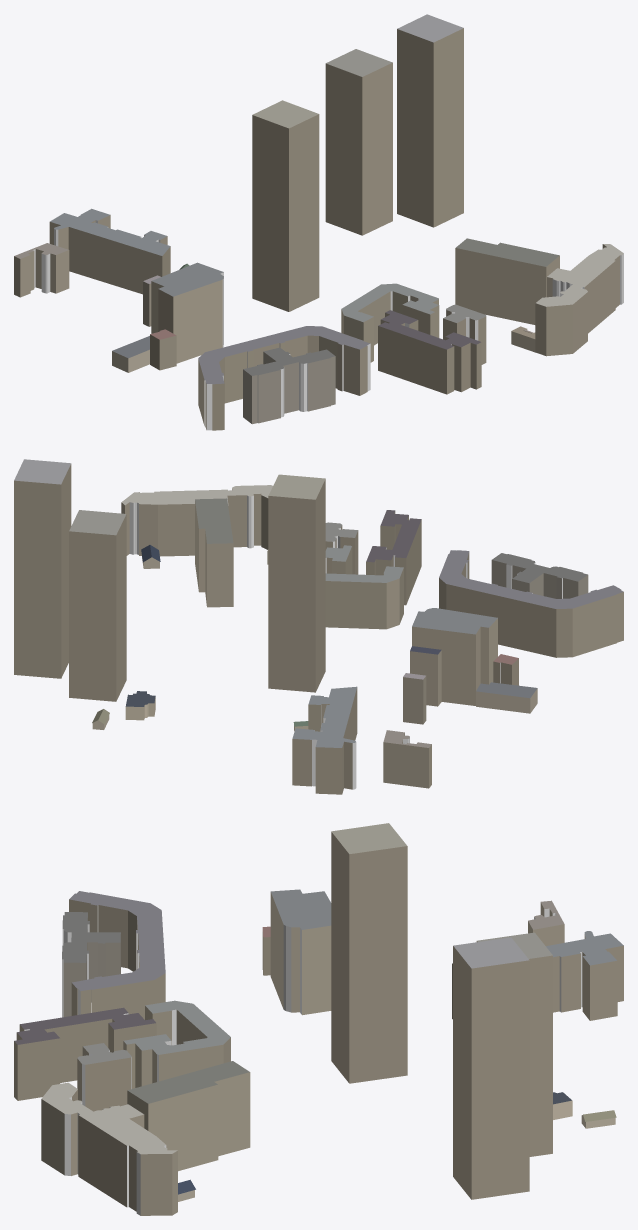
3 renders of one model, top to bottom at view 1: azimuth 30°, elevation 25°; view 2: azimuth 150°, elevation 25°; view 3: azimuth 270°, elevation 25°, orthographic. The views are drawn at different scales.
Visible parts, largest first — view 1: tuile; view 2: tuile; view 3: tuile.
Part boxes in pixels (left/top/right/bottom): tuile: left=14, top=14, right=623, bottom=430; tuile: left=14, top=459, right=623, bottom=794; tuile: left=14, top=823, right=623, bottom=1215.
Bounding box in the file's own units: 261 × 107 × 248.
